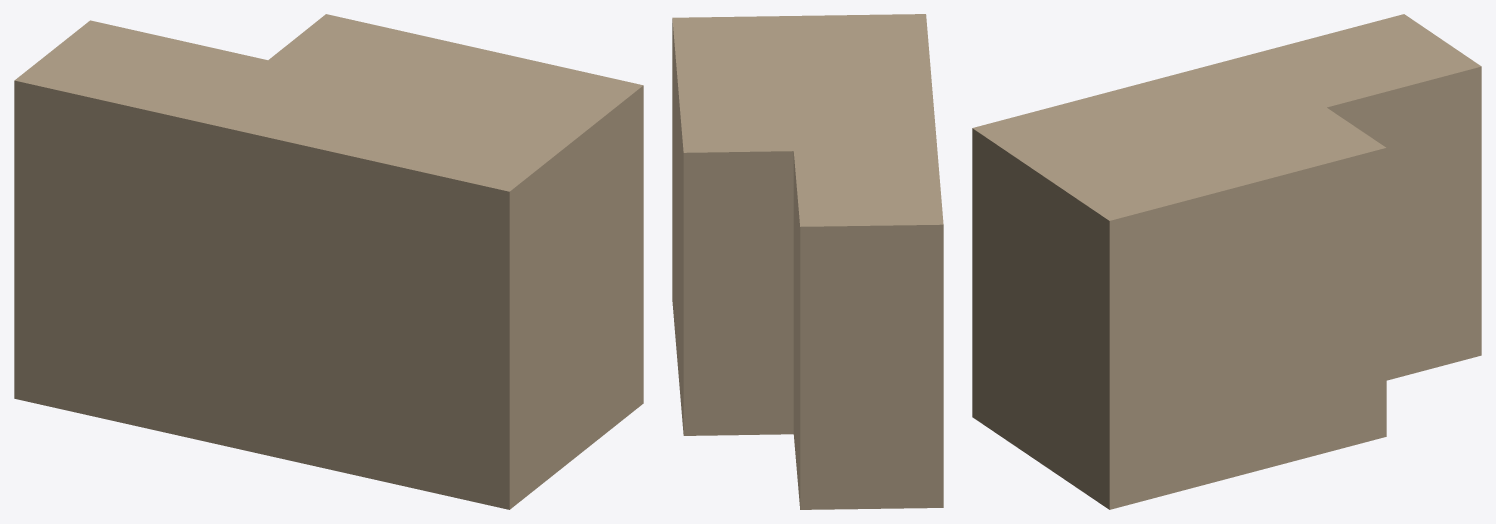
Rendered from bld_101353726.dae.
The picture shows the model from 3 angles, left to right: view 1: azimuth 30°, elevation 25°; view 2: azimuth 150°, elevation 25°; view 3: azimuth 270°, elevation 25°; orthographic projection. The views are drawn at different scales.
Visible parts, largest first — view 1: bld_101353726; view 2: bld_101353726; view 3: bld_101353726.
Boxes of the visible parts, <box> form: bld_101353726: <box>14,14,643,509</box>; bld_101353726: <box>672,14,943,509</box>; bld_101353726: <box>972,14,1481,509</box>.
Size of the model in its own units: 12.29 by 12.78 by 8.
